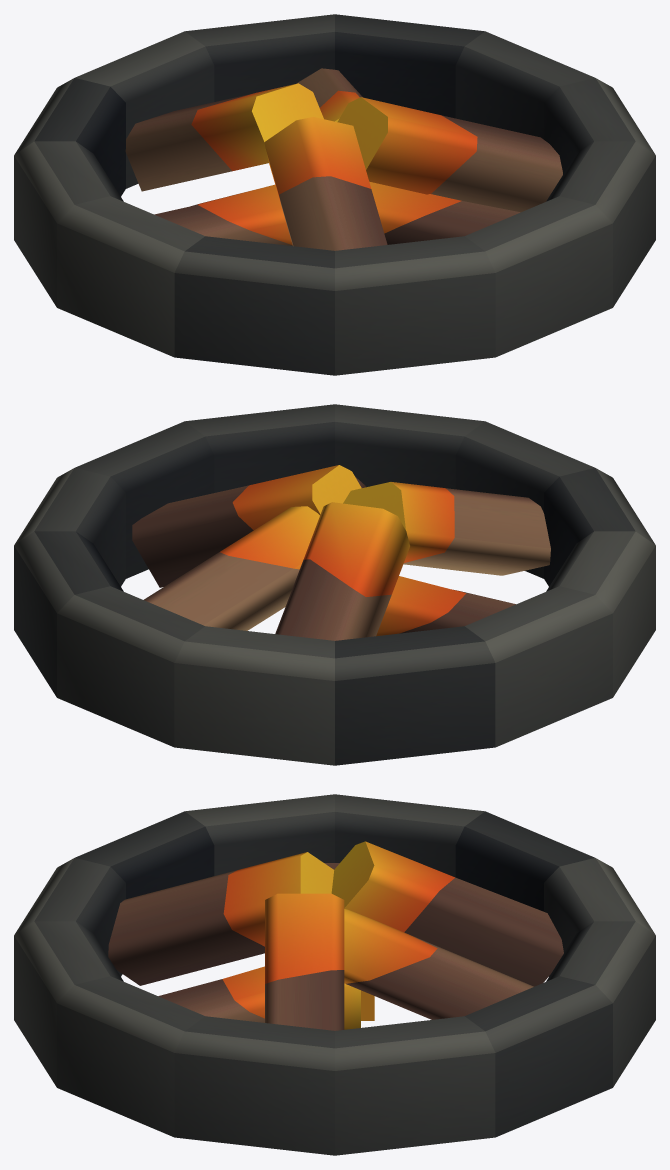
The model's file is fire_pit.fbx.
3 renders of one model, top to bottom at view 1: azimuth 30°, elevation 25°; view 2: azimuth 150°, elevation 25°; view 3: azimuth 270°, elevation 25°, orthographic.
Visible parts, largest first — view 1: fire_pit; view 2: fire_pit; view 3: fire_pit.
Boxes of the visible parts, x1,y1,x2,y2 form: fire_pit: (14, 14, 655, 375); fire_pit: (14, 404, 655, 765); fire_pit: (14, 794, 655, 1155).
Bounding box in the file's own units: 102 × 26.02 × 102.
